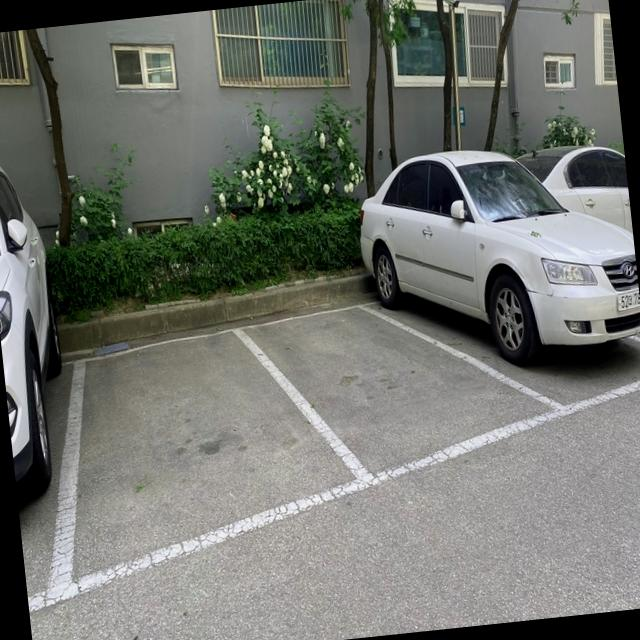car: (349, 132, 640, 373)
free: (44, 324, 384, 610), (229, 299, 580, 493)
